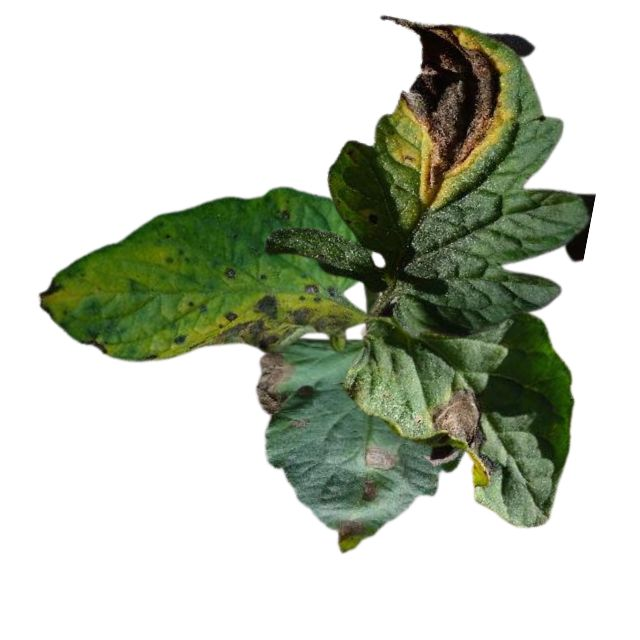Early_blight: (378, 14, 507, 199), (192, 279, 362, 348), (431, 385, 494, 489), (258, 352, 290, 415), (38, 279, 63, 314), (340, 518, 365, 545), (363, 447, 389, 472), (360, 478, 378, 501), (289, 417, 312, 433)
